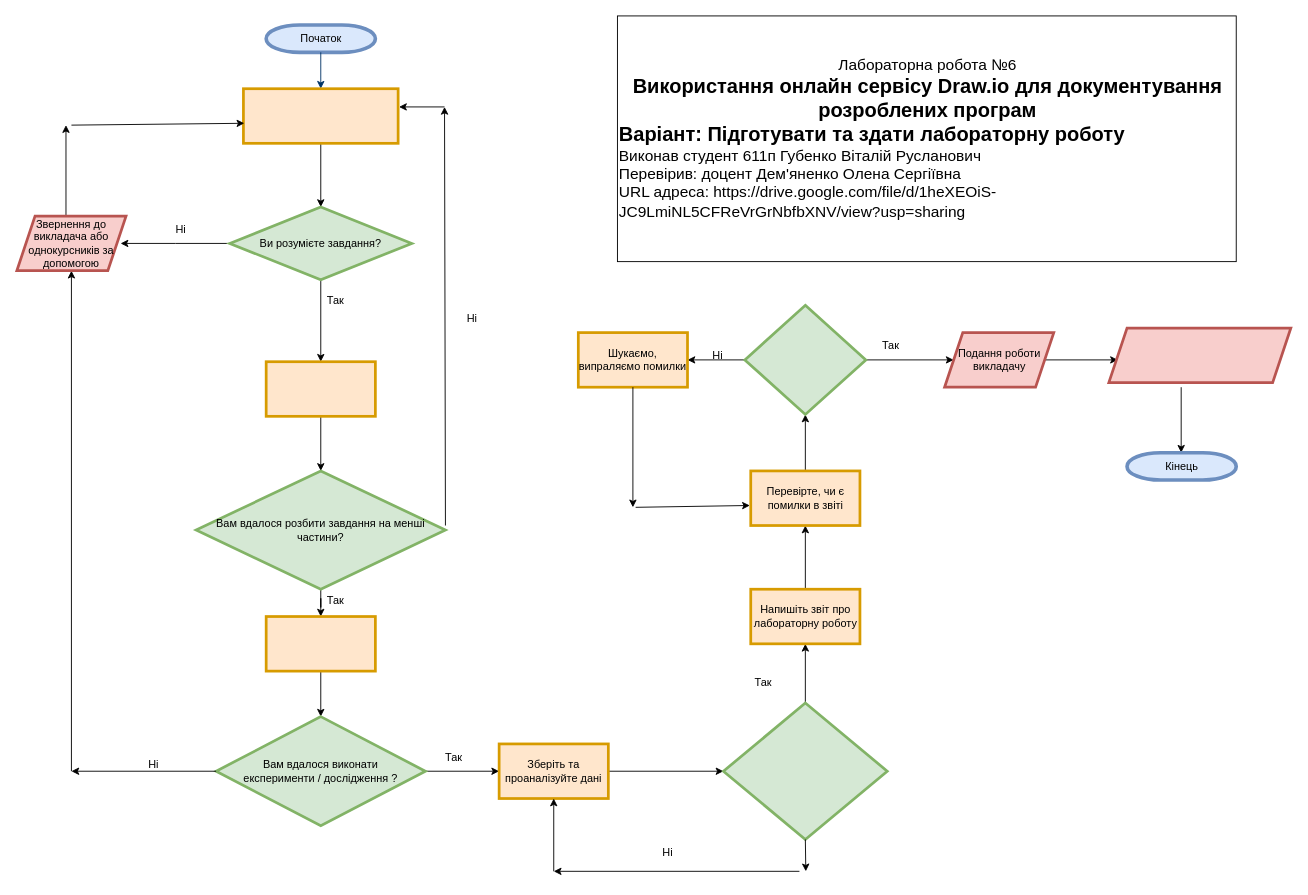
Image size: 1308x895. Some labels were removed from this diagram. Each missing label, with the centre of its shape:
"Вам вдалося зберегти та проаналізувати дані?" belongs at point (805, 770).
"Виконайте експерименти/дослідження" belongs at point (320, 643).
"Звіт написаний без помилок?" belongs at point (805, 359).
"Отримання зворотнього зв'язку" belongs at point (1199, 355).
"Прочитати та визначити тему лабораторної роботи, прочитати завдання" belongs at point (320, 115).
"Сплануйте свою роботу, розбийте завдання на менші частини" belongs at point (320, 388).
